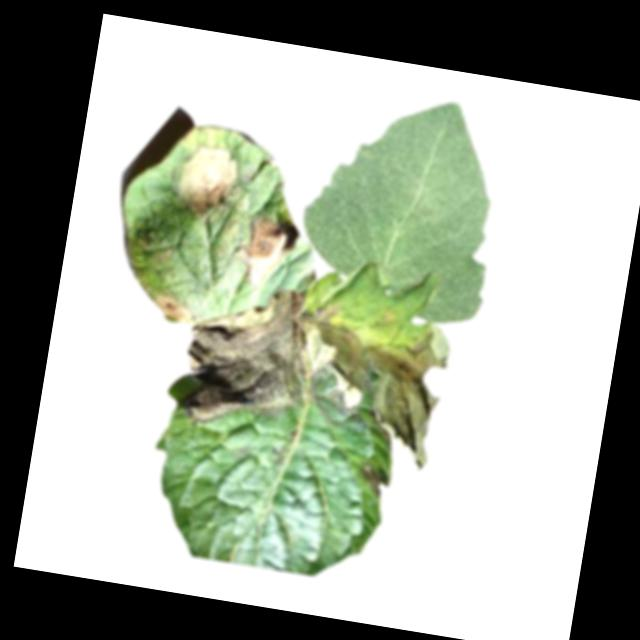Late_blight: (297, 302, 455, 473), (175, 274, 318, 438), (162, 138, 247, 226), (229, 212, 298, 293), (354, 463, 391, 502), (148, 291, 193, 323)
